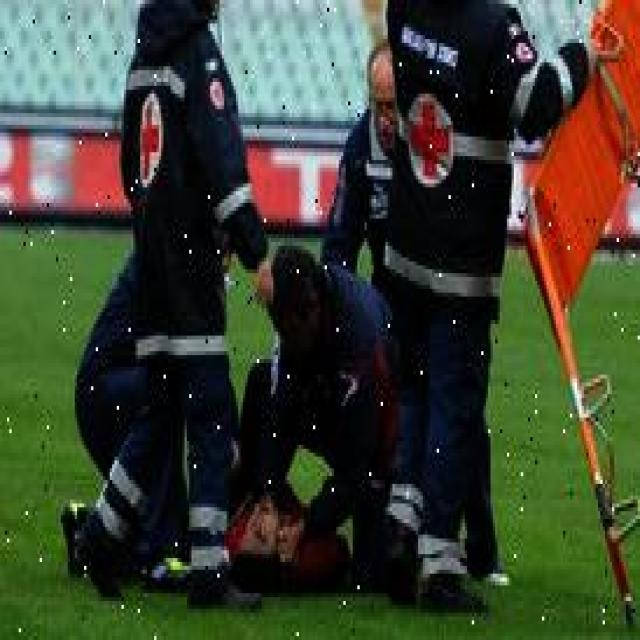fall: (224, 442, 355, 578)
